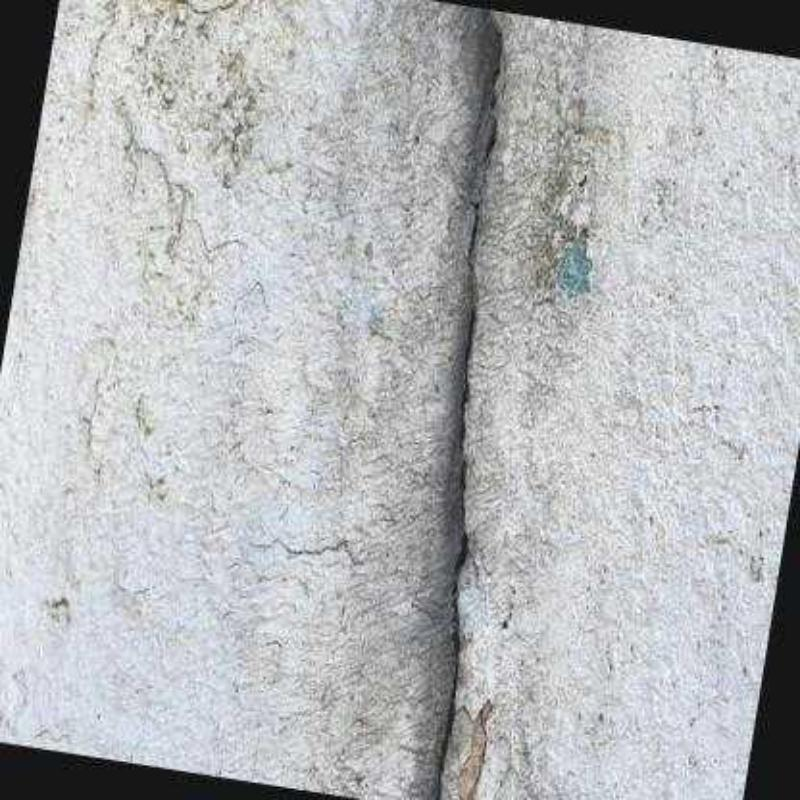pothole: (428, 8, 505, 798), (273, 537, 365, 567)
